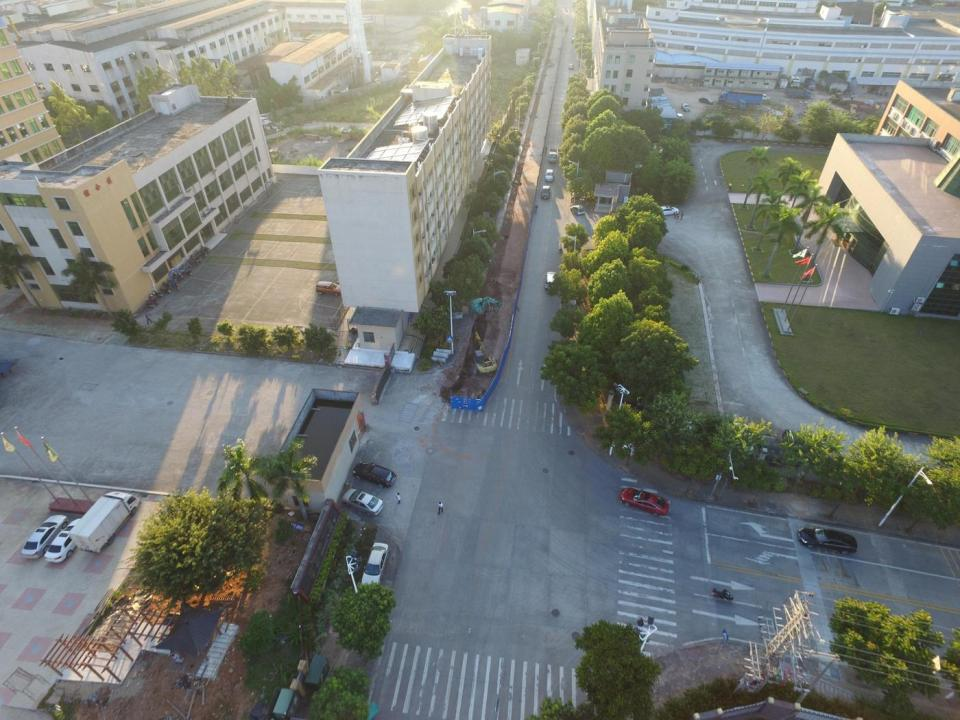car: (43, 517, 91, 564), (20, 515, 70, 560), (797, 526, 858, 556), (619, 487, 669, 516), (360, 542, 388, 592), (341, 488, 384, 517), (353, 461, 397, 488), (316, 280, 342, 296), (655, 206, 679, 216), (544, 272, 557, 290), (570, 204, 586, 216), (540, 186, 551, 200), (698, 96, 714, 105), (546, 169, 554, 182), (680, 103, 691, 112), (758, 94, 770, 101), (568, 62, 574, 70)
truck: (67, 491, 142, 553), (718, 89, 763, 104), (783, 86, 811, 99), (723, 99, 745, 110), (803, 76, 817, 90), (789, 74, 800, 88), (548, 147, 557, 163)
